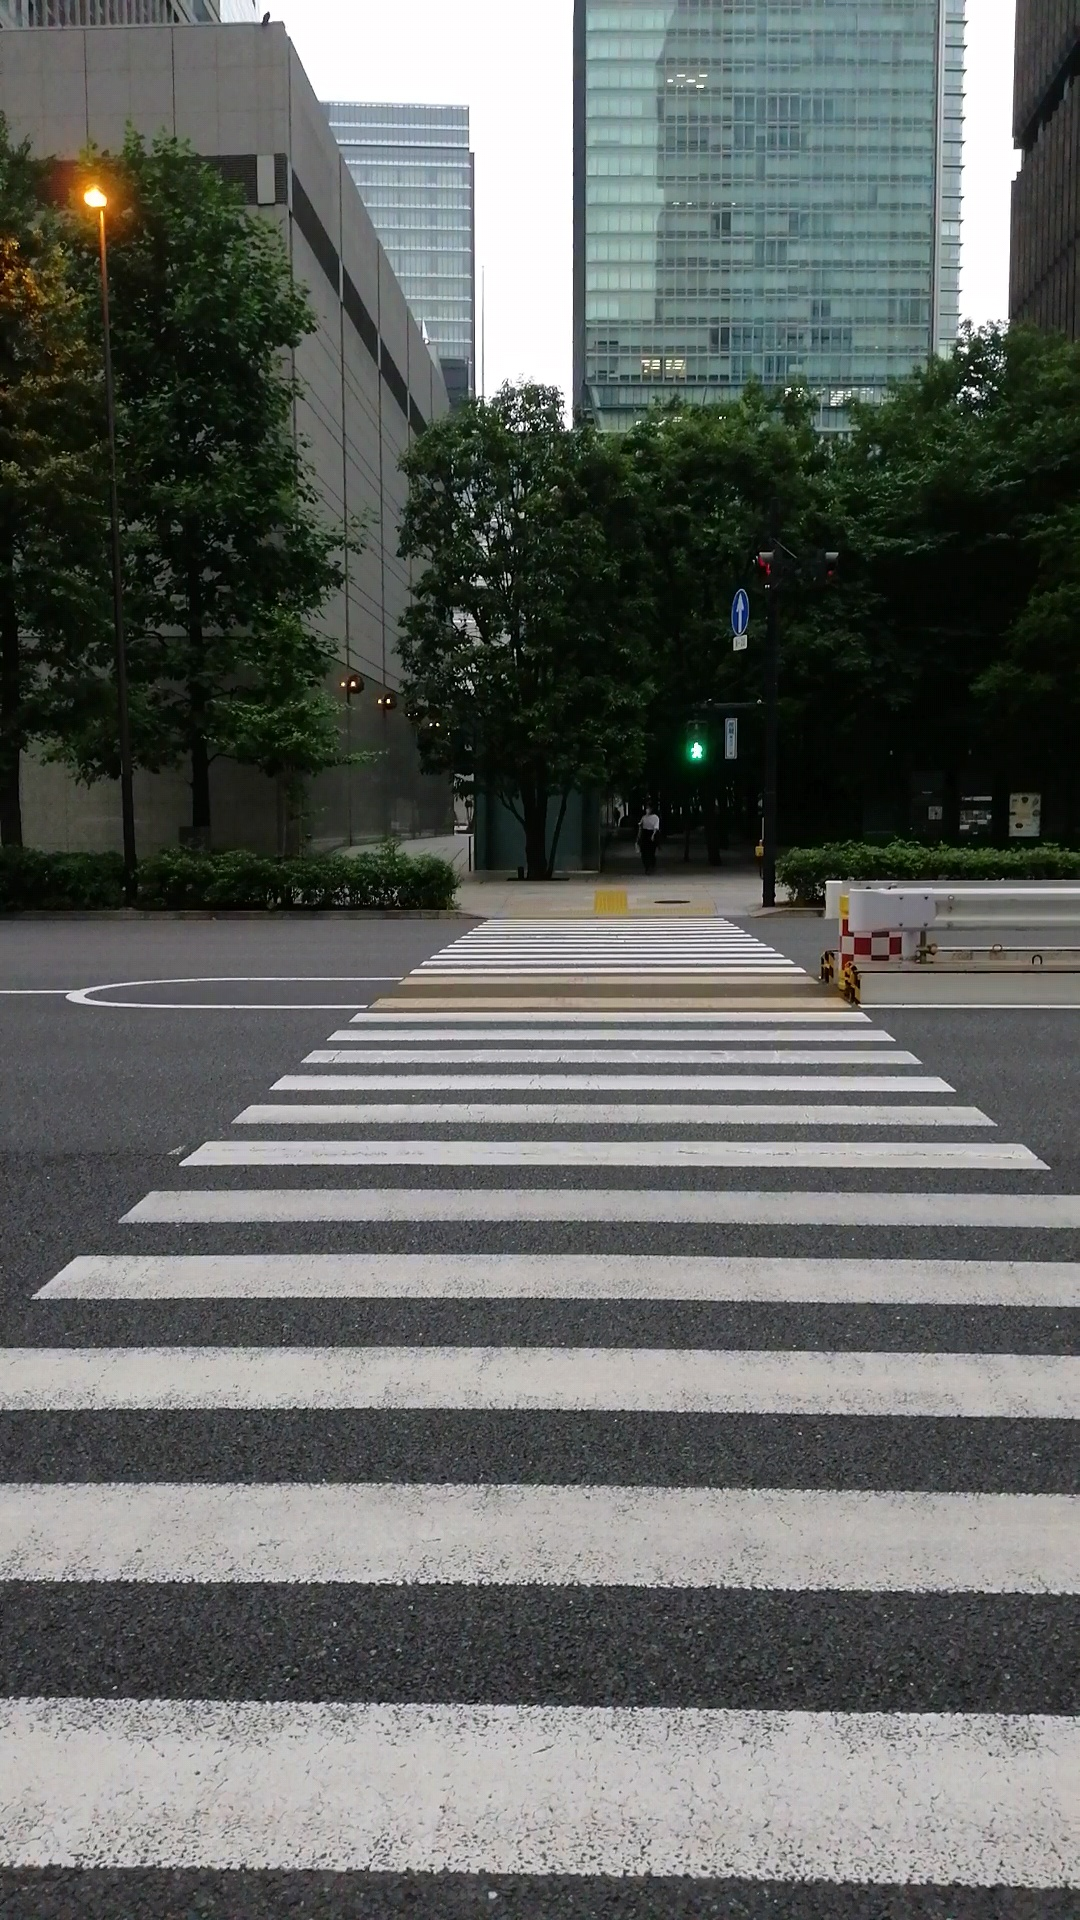green: (680, 715, 709, 765)
